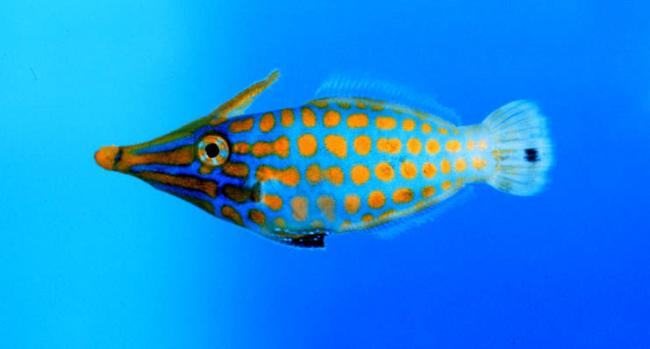fish: (92, 67, 555, 250)
